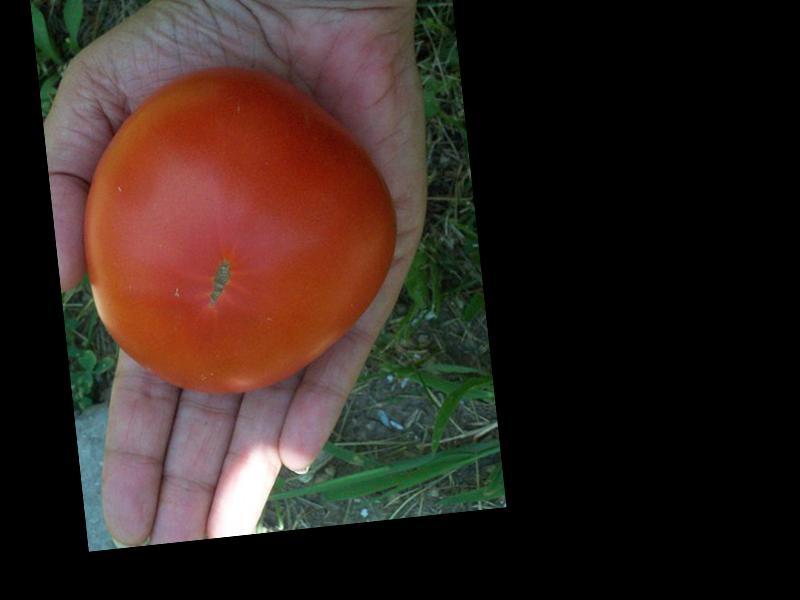Tomato: (67, 54, 412, 406)
